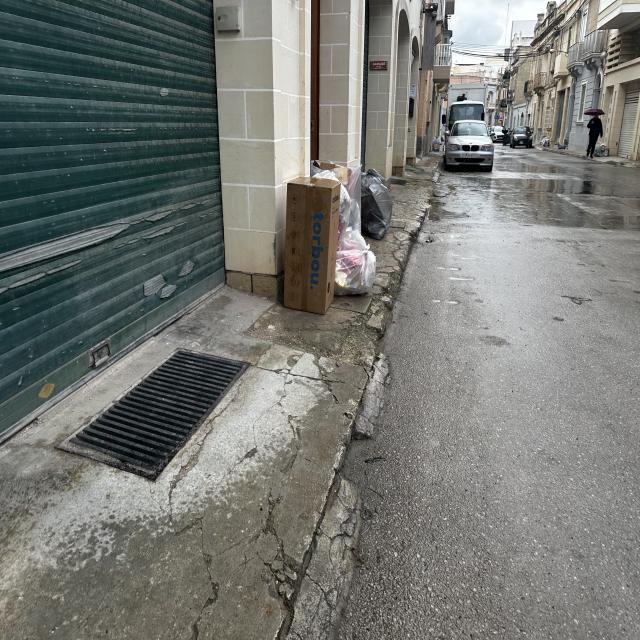Mixed Waste -Black Bags-: (361, 168, 393, 239)
Others Waste: (284, 177, 341, 314)
Recyclable Material -Grey Bags-: (311, 159, 376, 296)
